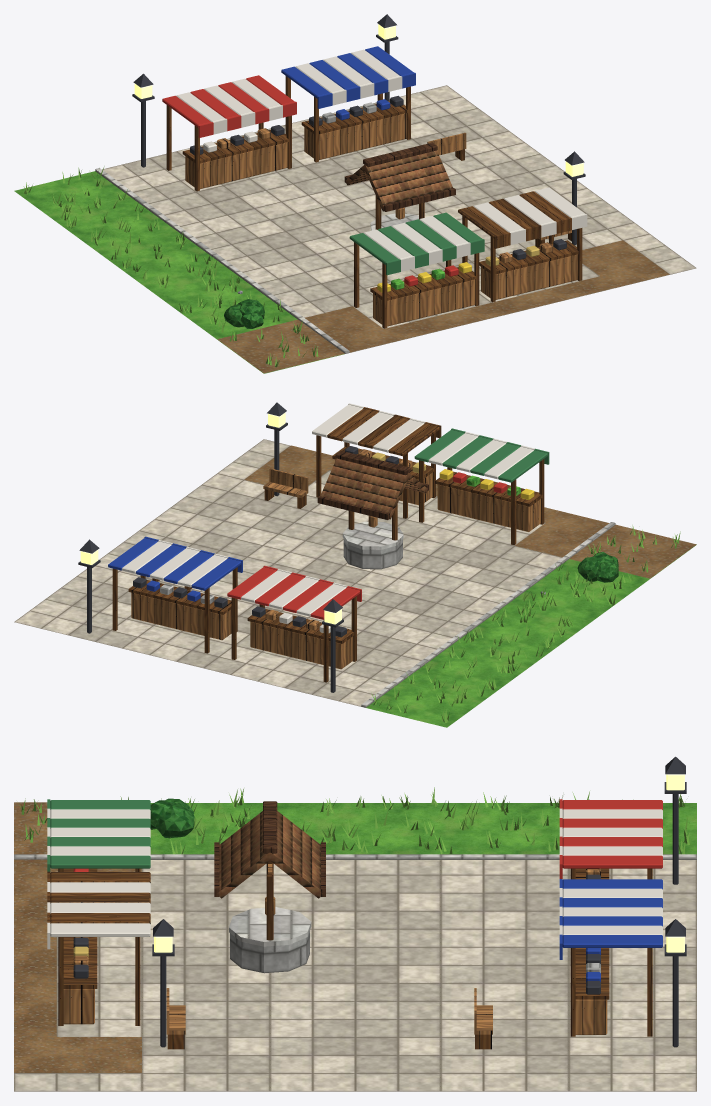
The model's file is chunk_5_11.glb.
The picture shows the model from 3 angles, top to bottom: view 1: azimuth 30°, elevation 25°; view 2: azimuth 150°, elevation 25°; view 3: azimuth 270°, elevation 25°; orthographic projection. The views are drawn at different scales.
Parts seen in each view (by area): view 1: chunk_5_11; view 2: chunk_5_11; view 3: chunk_5_11.
Part boxes in pixels (x1,y1,x2,y2): chunk_5_11: (14,14,696,373); chunk_5_11: (14,402,696,727); chunk_5_11: (14,756,696,1091).
Bounding box in the file's own units: 16.1 × 3.51 × 16.
22 materials, 13 textured.
